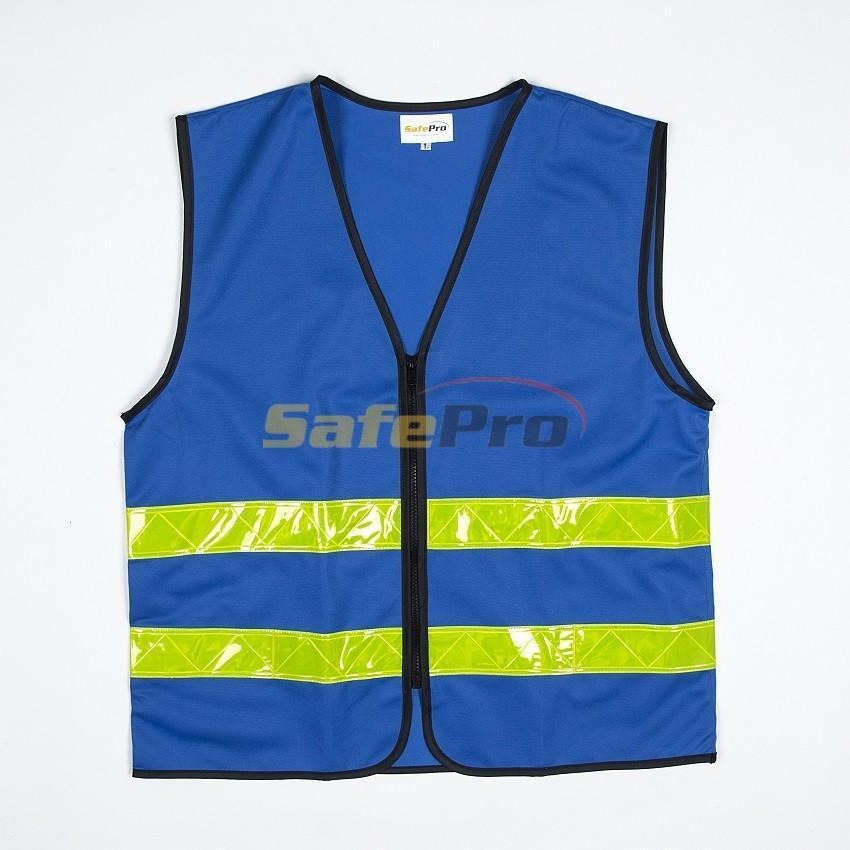vest: (123, 69, 719, 781)
